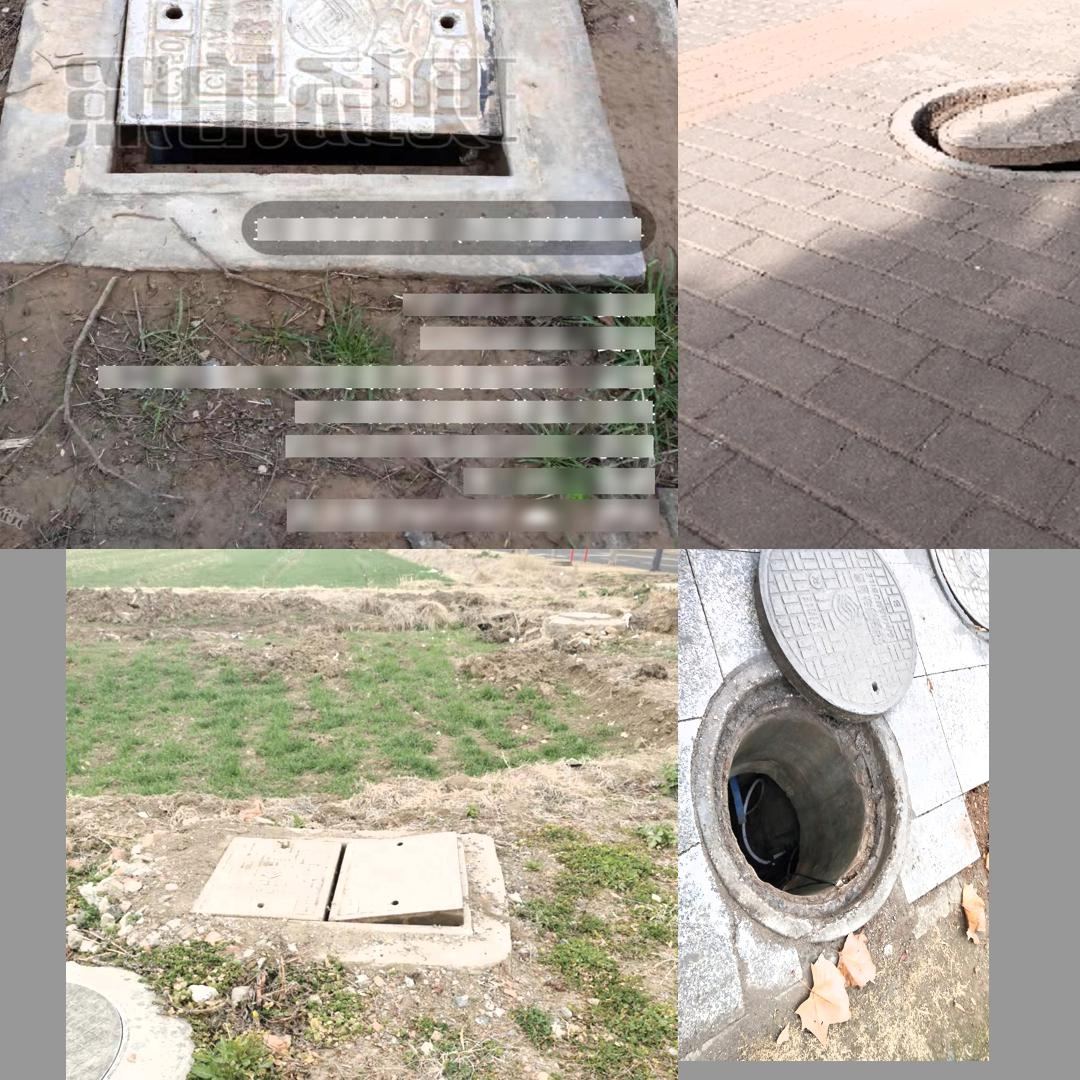uncovered: (687, 552, 916, 940), (81, 0, 513, 196), (189, 828, 471, 935), (888, 79, 1080, 180)
